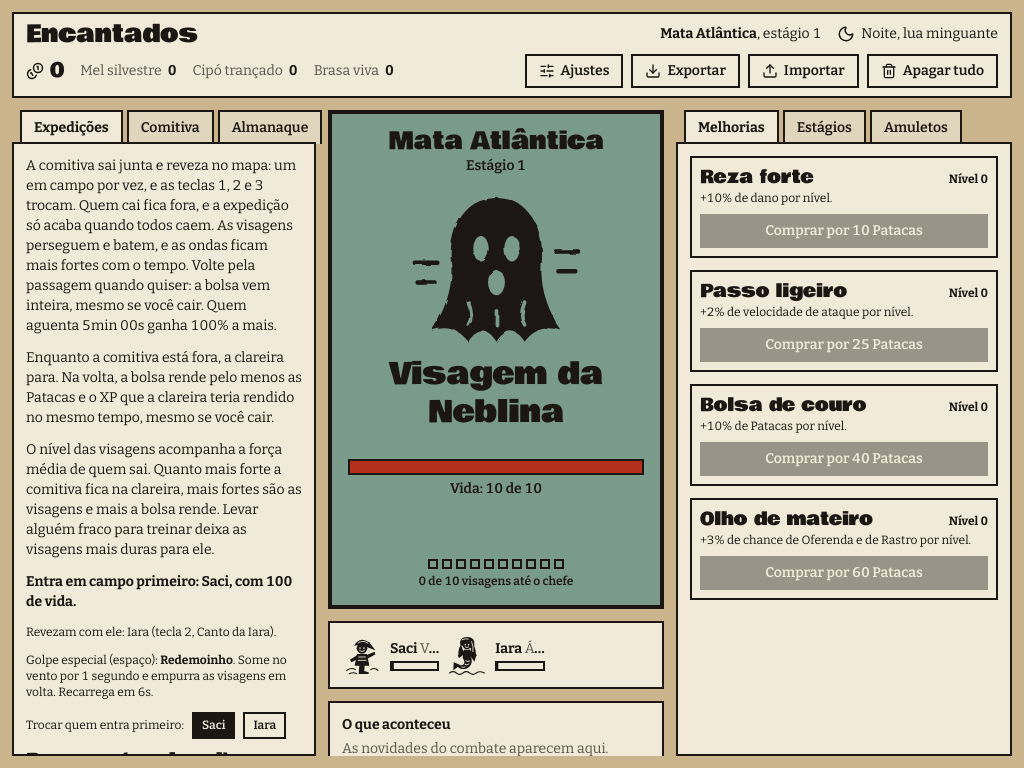
quem sai primeiro › troca quem sai pela aba, e quem sai é quem aparece no mapa
This screenshot has width=1024, height=768.
Click the button "Iara" at point(265, 725), box x1=243 y1=712 x2=286 y2=738
(page scrolled)
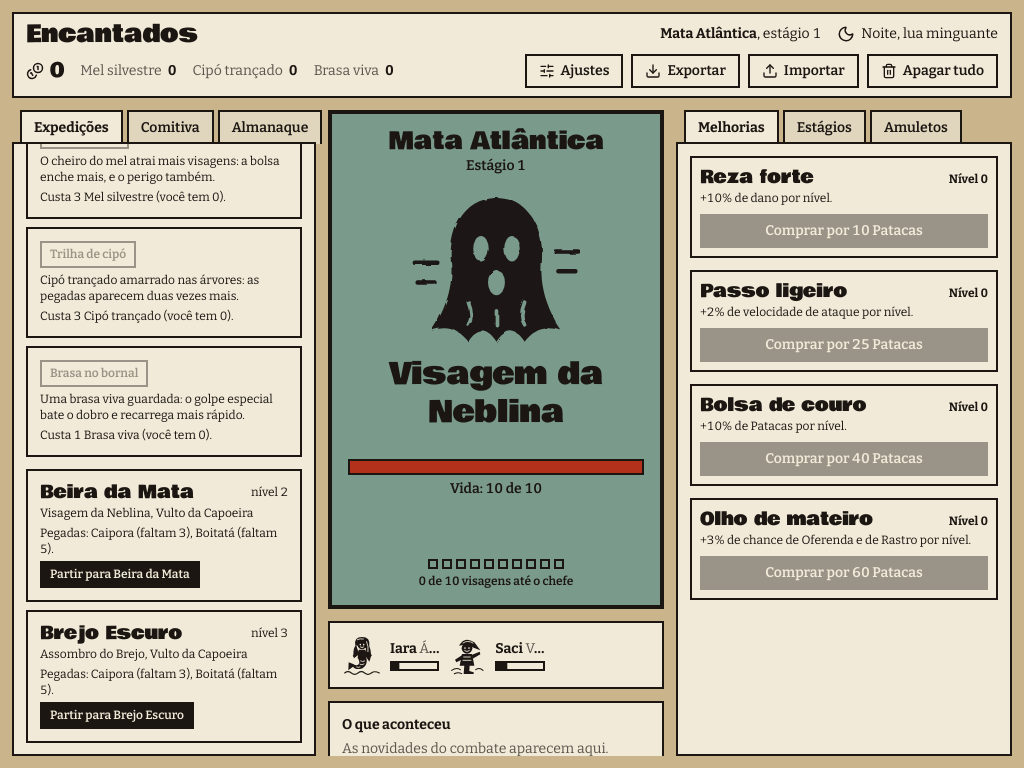
Click the button "Partir para Beira da Mata" at point(120, 574), box x1=40 y1=560 x2=200 y2=588
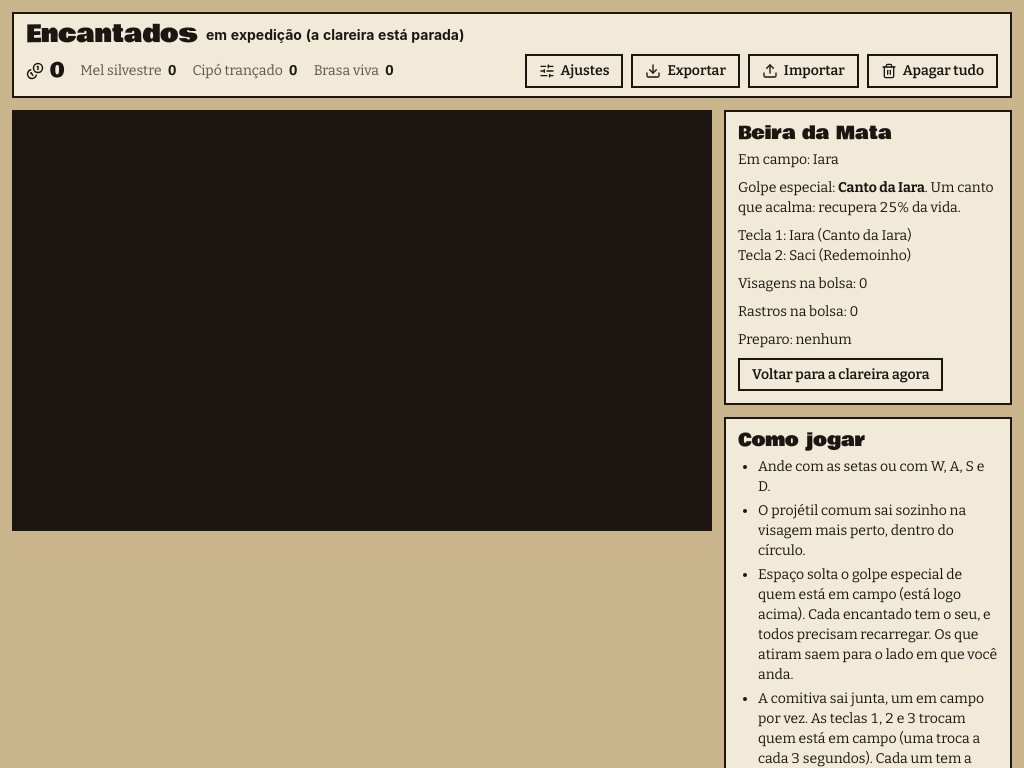
Expected: the text "Tecla 2: Saci (Redemoinho)" is shown, x1=738 y1=246 x2=911 y2=264
